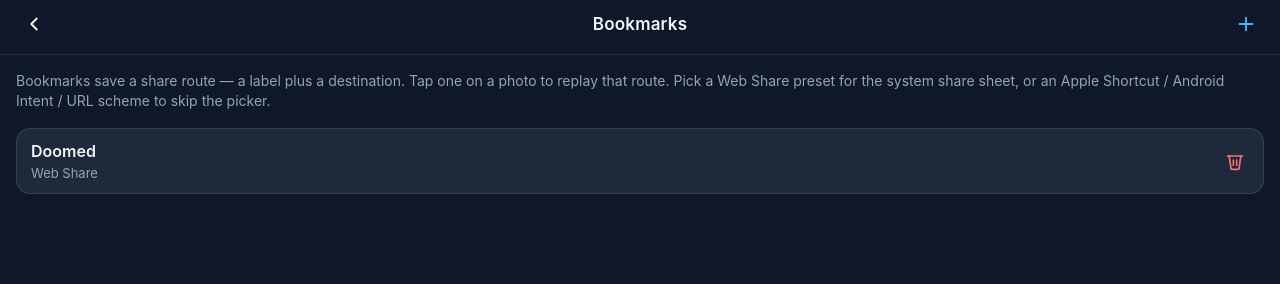
Test case: <BookmarksScreen /> › deletes a bookmark after confirmation
The width and height of the screenshot is (1280, 284).
Click the button named "delete doomed".
click(1235, 161)  # box x1=1213 y1=139 x2=1257 y2=183
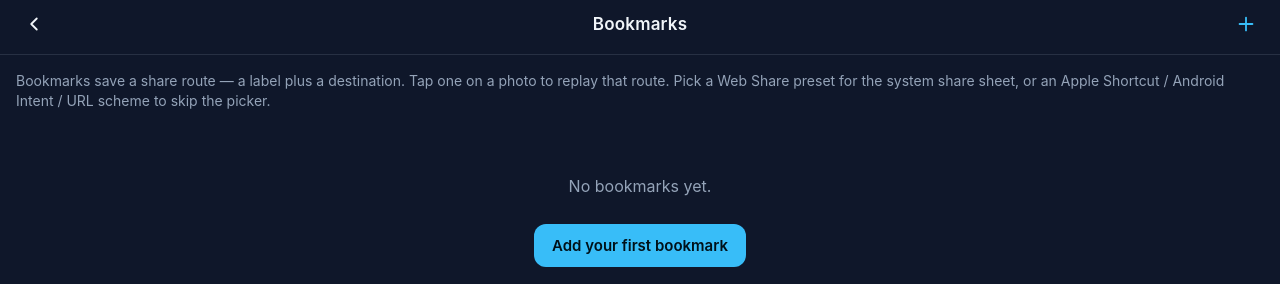
Expected: the button "Doomed" is gone
